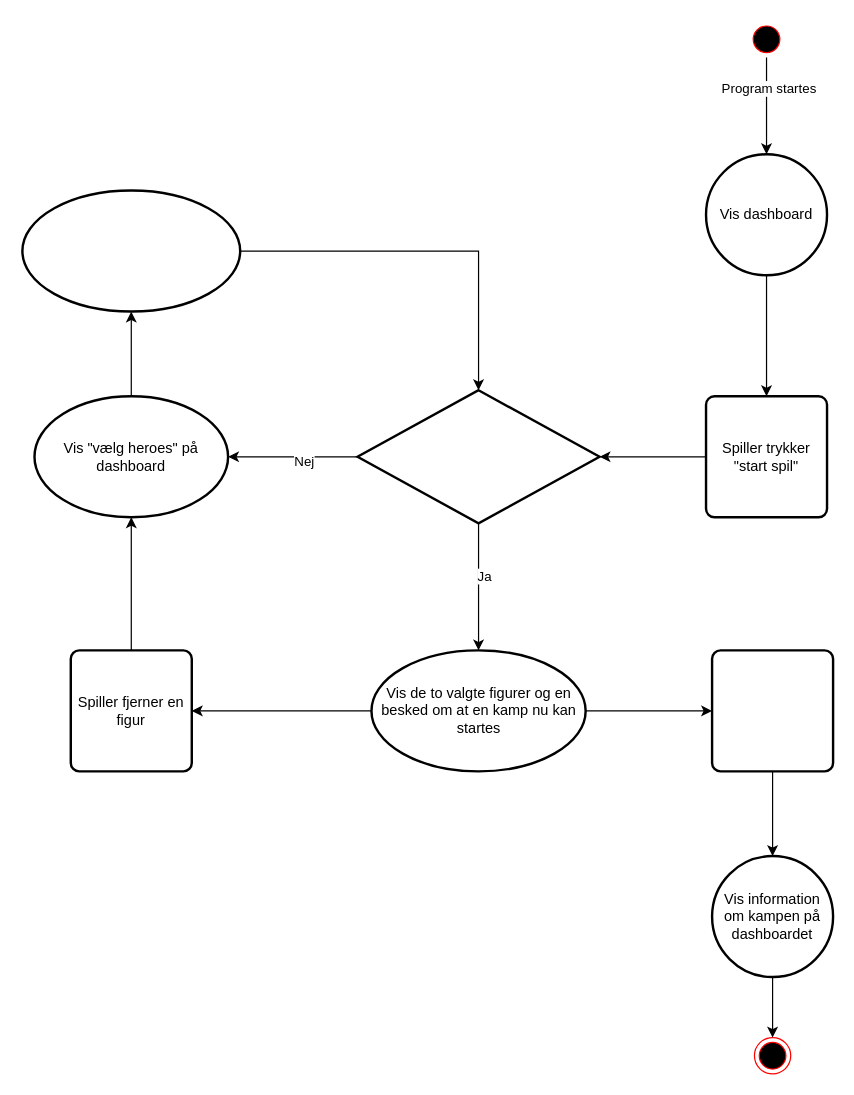
Some shapes in this 854 by 1095 pixel diagram are drawn without their labels. Each missing label, with the centre of its shape:
"Er der to heltefigurer på heltefigurbrættet?" goes at (x=478, y=456).
"Spiller starter en kamp" goes at (x=772, y=710).
"Vent på at heltefigurbrættet sender et signal" goes at (x=131, y=250).
